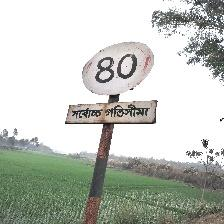Speed-limit: (66, 40, 158, 125)
